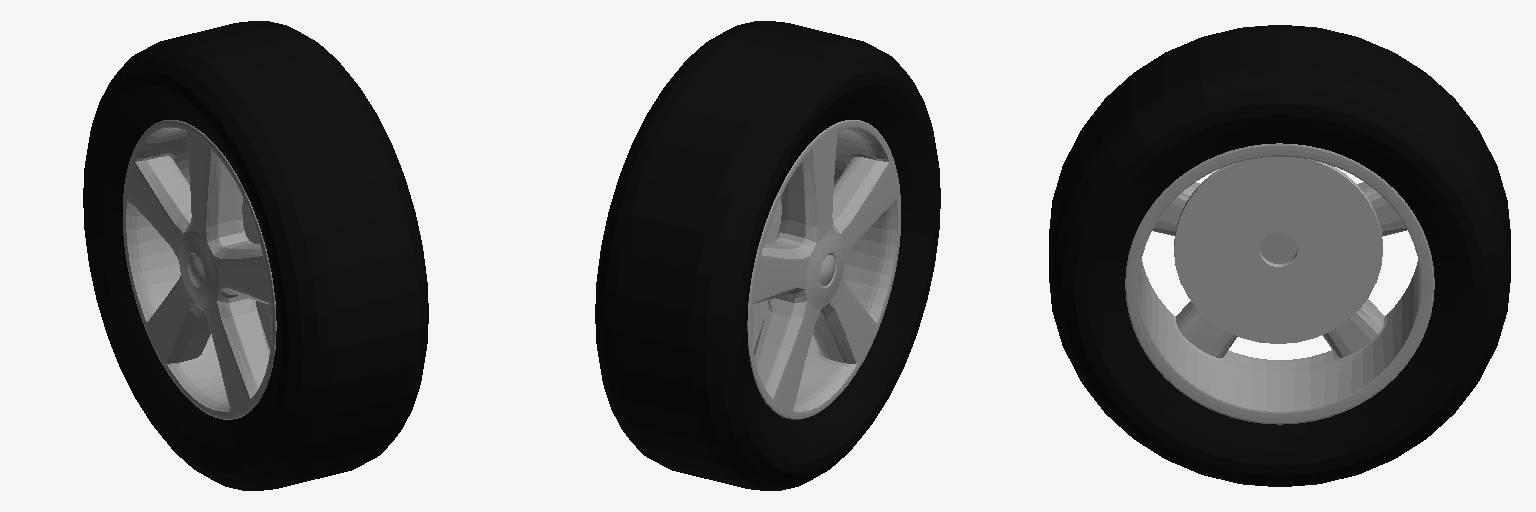
The model's file is AutoB_LLTD.obj.
3 views of the same model, side by side, from view 1: azimuth 30°, elevation 25°; view 2: azimuth 150°, elevation 25°; view 3: azimuth 270°, elevation 25° (orthographic).
Parts seen in each view (by area): view 1: Tire3, Disk3, brake3; view 2: Tire3, Disk3, brake3; view 3: Tire3, Disk3, brake3.
Boxes of the visible parts, box(x1,y1,x2,y2) form: Tire3: box(83, 21, 428, 490); Disk3: box(123, 120, 276, 419); brake3: box(242, 198, 270, 348); Tire3: box(595, 21, 940, 490); Disk3: box(747, 120, 900, 419); brake3: box(753, 198, 781, 347); Tire3: box(1049, 25, 1510, 486); Disk3: box(1125, 143, 1434, 424); brake3: box(1174, 157, 1382, 343).
Size of the model in its own units: 1.23 by 3.47 by 3.47.